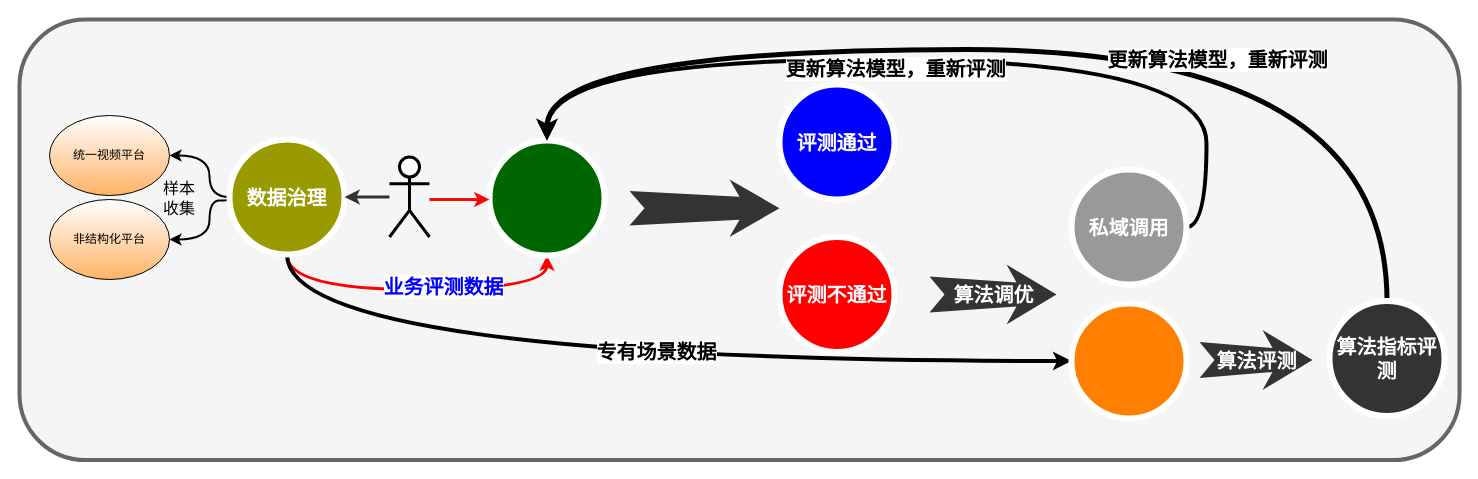
Some shapes in this 1478 by 479 pixel diagram are drawn without their labels. The shapes that lost their labels are listed below. From the top down, each one's centre as x and y in pixels, then its label:
At (409,196): "评测人员".
At (546,197): "设备装置评测".
At (704,207): "业务评测".
At (1128,360): "模型训练".
